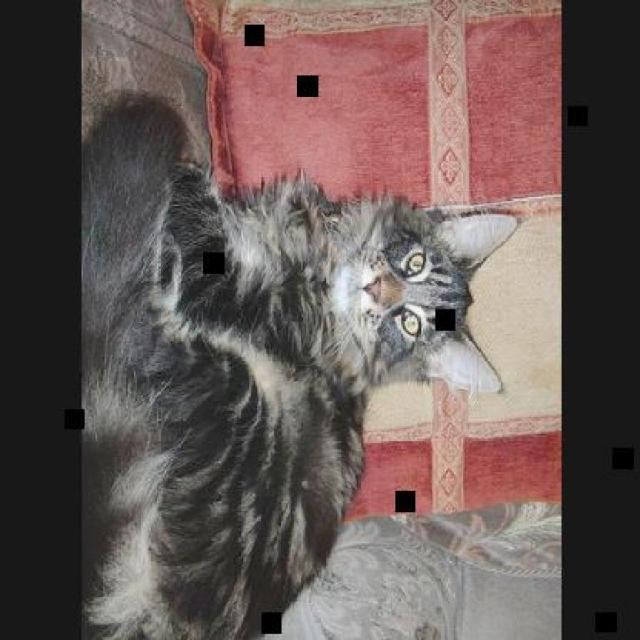unauthorized: (79, 90, 523, 638)
